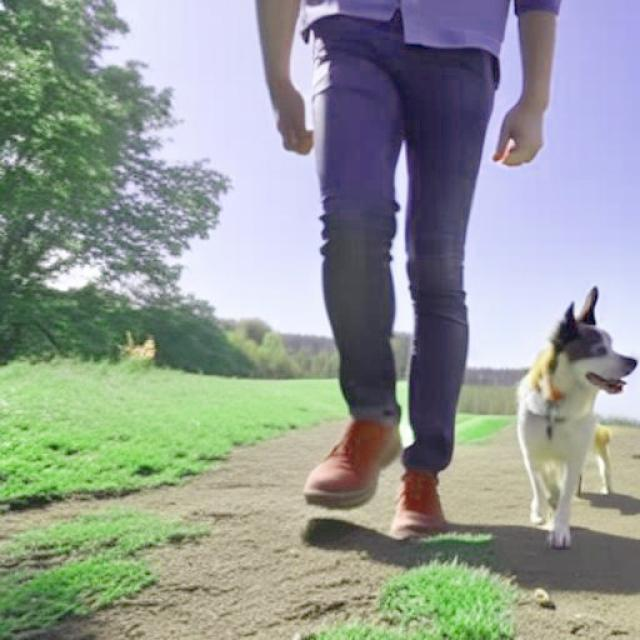Unleashed_Dog: (318, 20, 640, 552)
